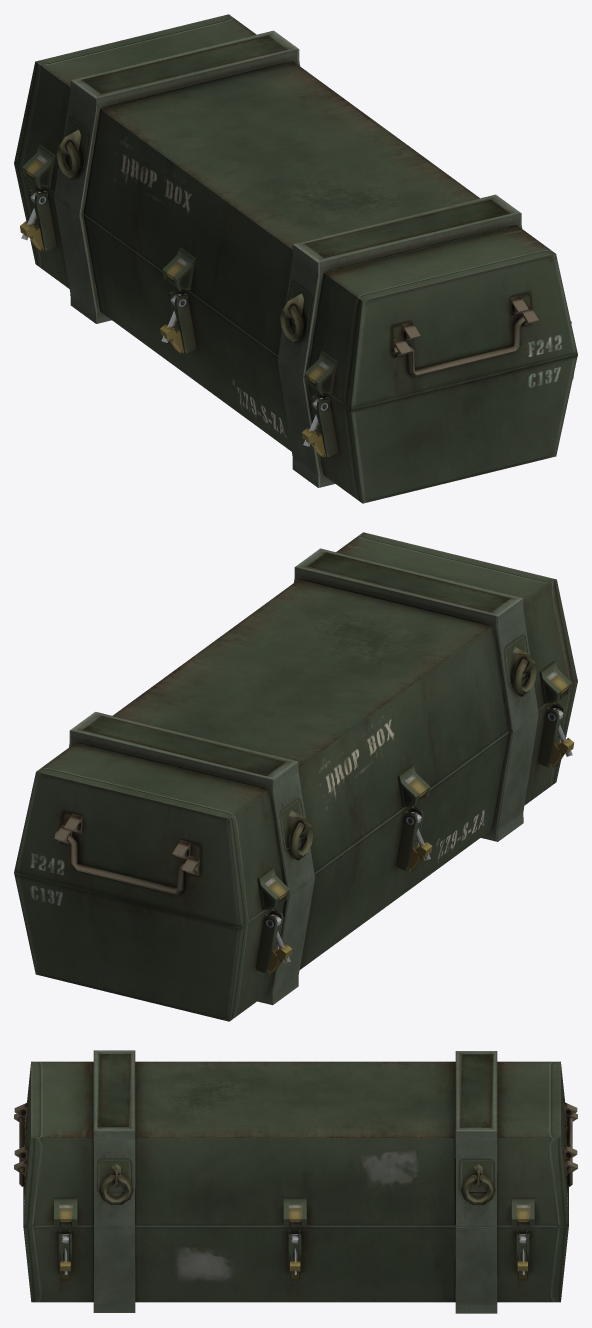
The model's file is VV_SupplyCrate_2.fbx.
3 views of the same model, one above another, from view 1: azimuth 30°, elevation 25°; view 2: azimuth 150°, elevation 25°; view 3: azimuth 270°, elevation 25° (orthographic). The views are drawn at different scales.
Visible parts, largest first — view 1: VV_SupplyCrate_2; view 2: VV_SupplyCrate_2; view 3: VV_SupplyCrate_2.
Part boxes in pixels (x1,y1,x2,y2): VV_SupplyCrate_2: (14, 14, 577, 503); VV_SupplyCrate_2: (14, 532, 577, 1021); VV_SupplyCrate_2: (14, 1050, 577, 1313).
Bounding box in the file's own units: 65.02 × 51.97 × 146.
1 material, 1 textured.
